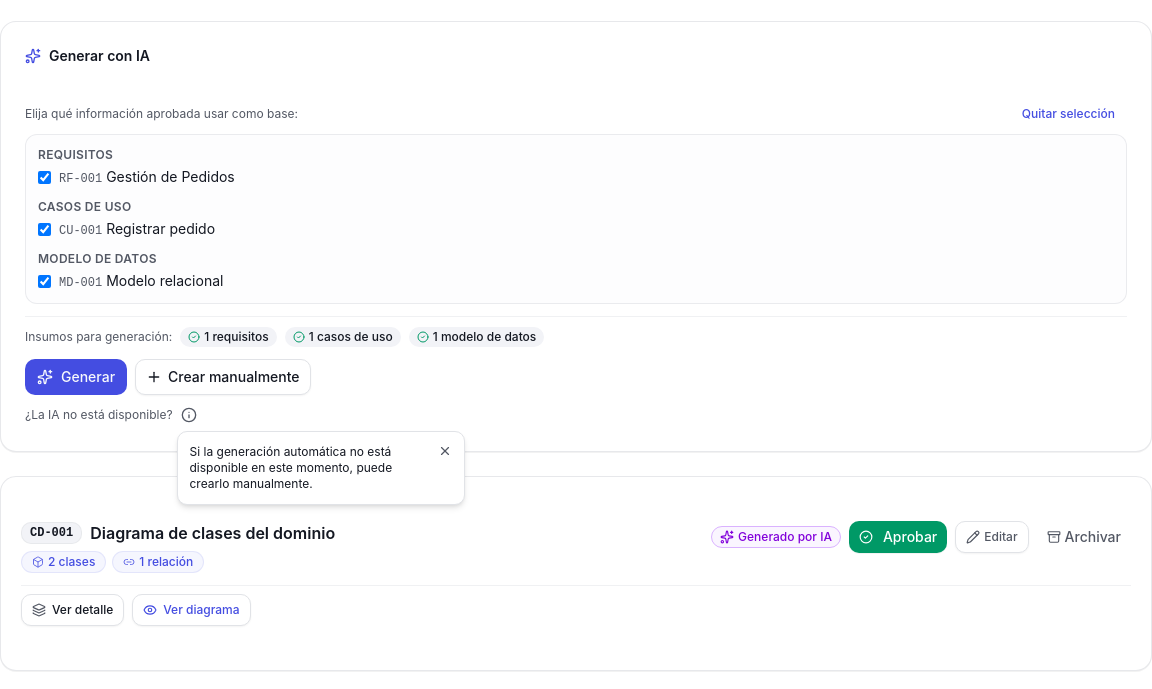
Test: ClassDiagramPage › expands detail to view structured UML classes, attributes, methods, and relationships
This screenshot has width=1152, height=689.
What coordinates should you click on to do the following:
click the button "Ver detalle"
I would click on:
 (73, 610)
Its box is [21,594,124,626].
(page scrolled)
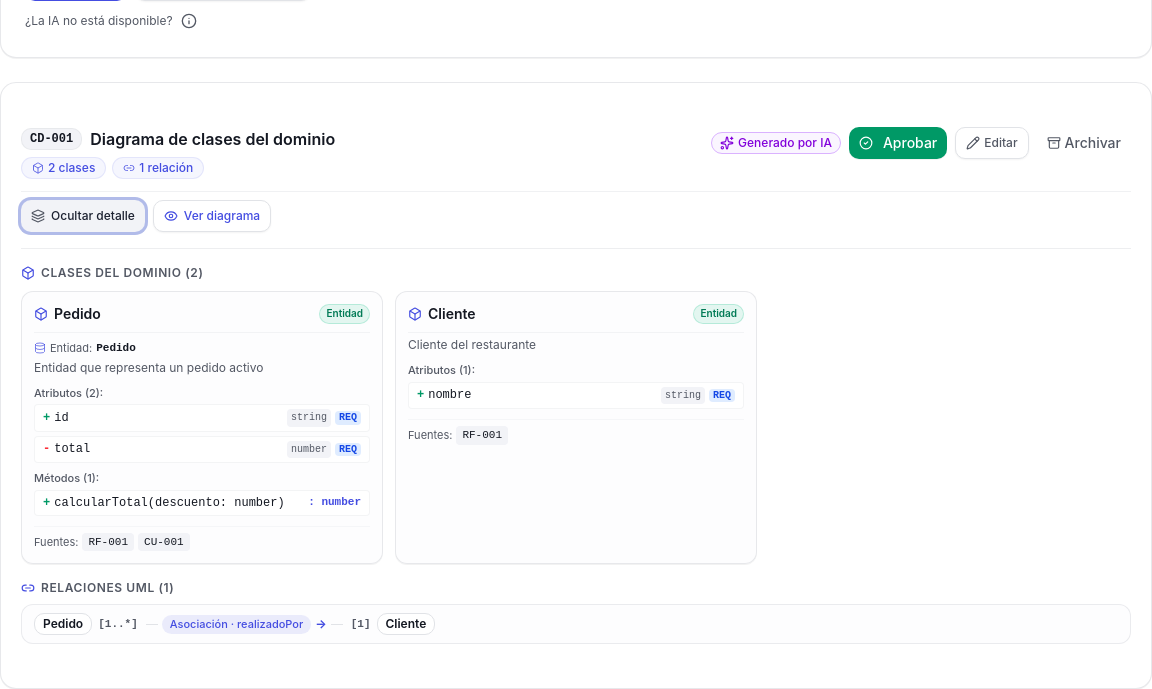
Result: the heading "Clases del dominio (2)" is shown at [21,265,204,280]
Result: the 1st text "Pedido" is shown at [54,304,101,324]
Result: the text "Cliente" below "Clases del dominio (" is shown at [428,305,476,322]
